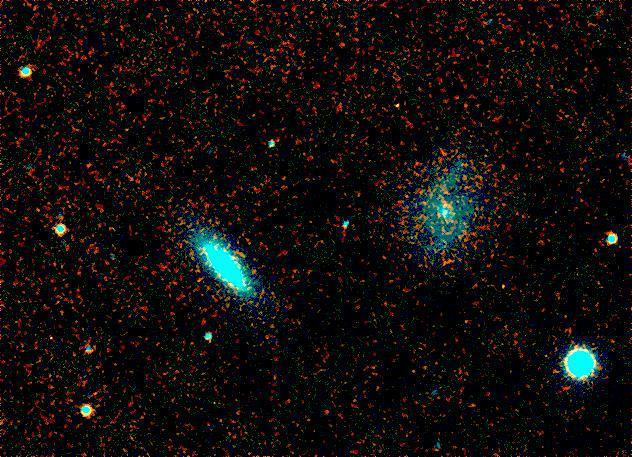star: (304, 392, 334, 422)
